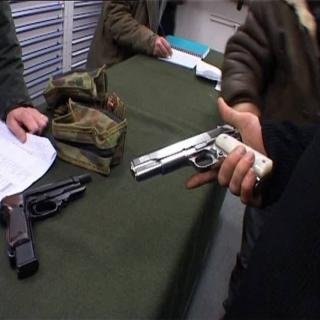gun: (125, 119, 276, 193), (0, 170, 95, 280)
